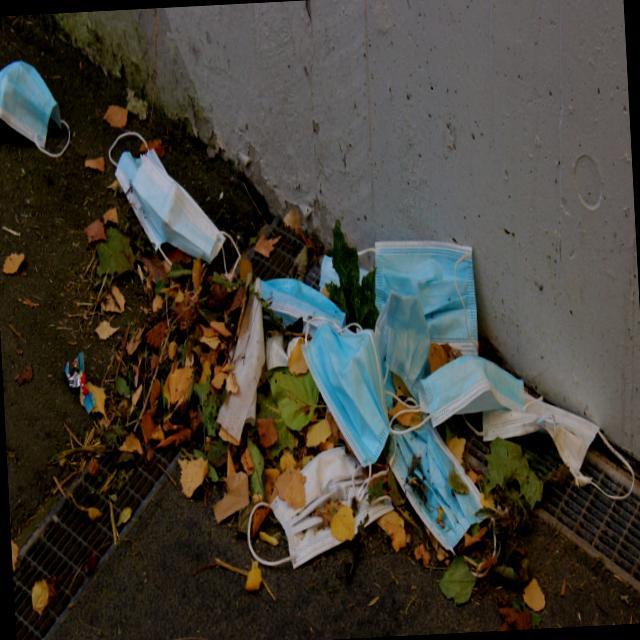garbage: (103, 76, 640, 610)
